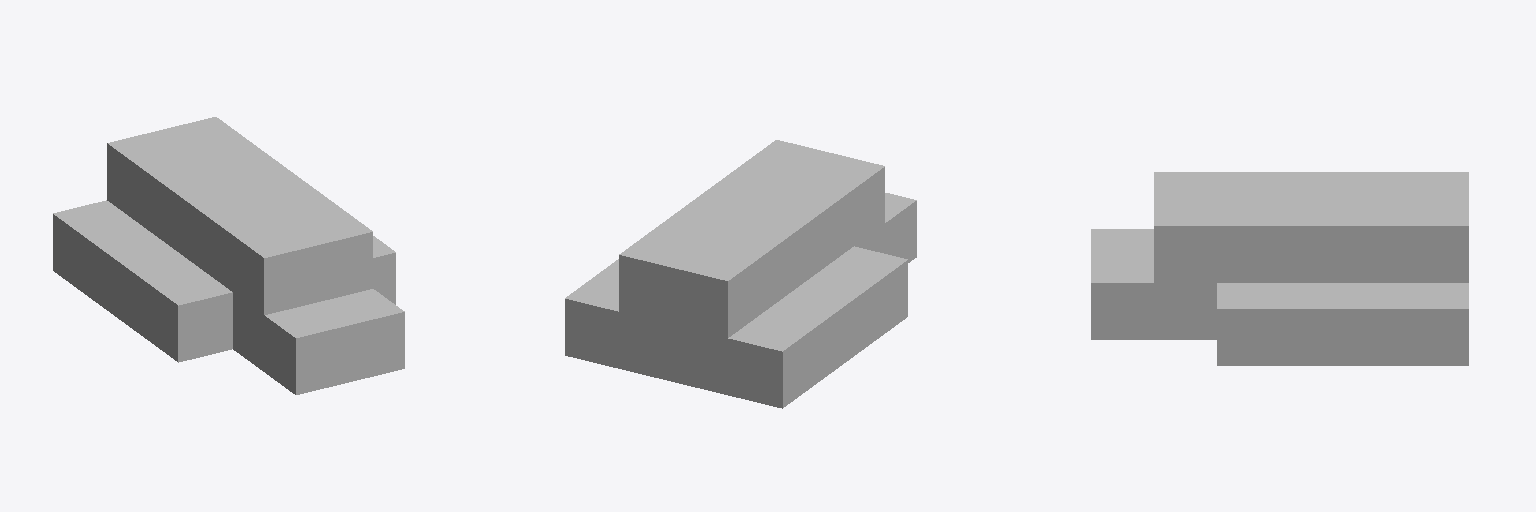
File: toy car.obj
3 renders of one model, left to right at view 1: azimuth 30°, elevation 25°; view 2: azimuth 150°, elevation 25°; view 3: azimuth 270°, elevation 25°, orthographic.
Parts seen in each view (by area): view 1: toy car; view 2: toy car; view 3: toy car.
Part boxes in pixels (x1,y1,x2,y2): toy car: (53, 117, 404, 394); toy car: (565, 140, 916, 408); toy car: (1091, 172, 1468, 365).
Bounding box in the file's own units: 4 × 2 × 6.